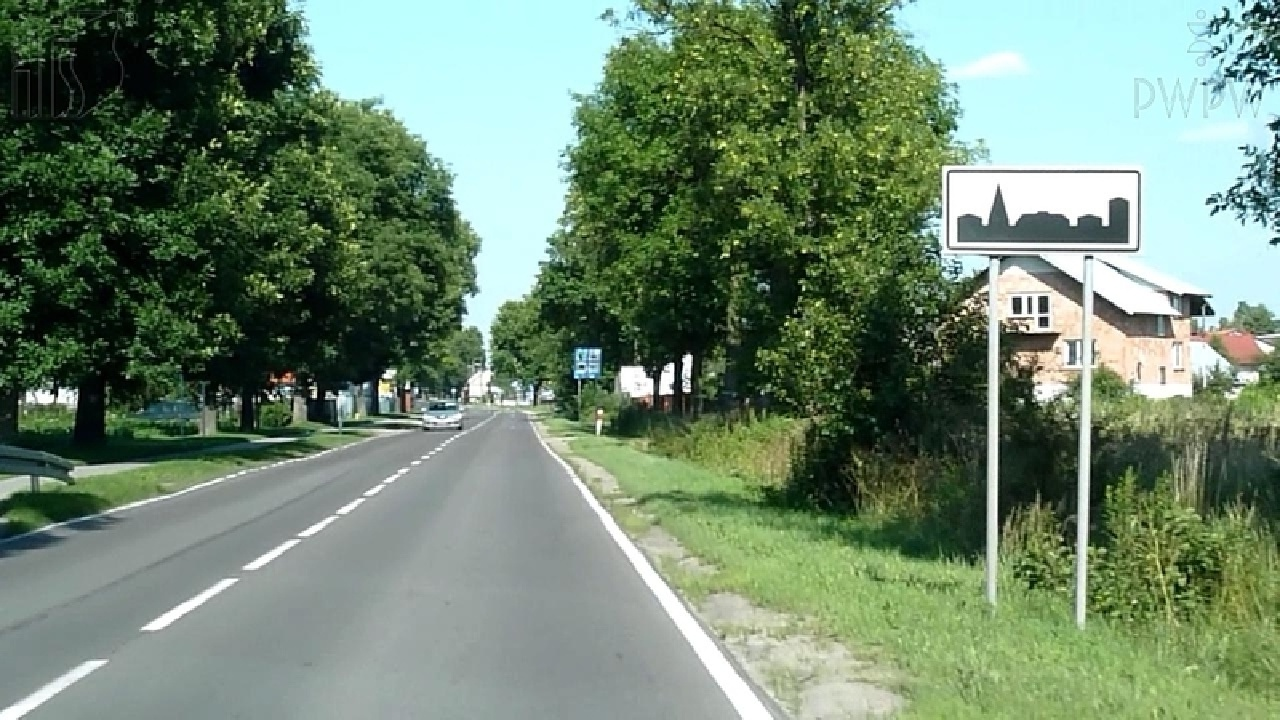D42: (942, 165, 1143, 254)
